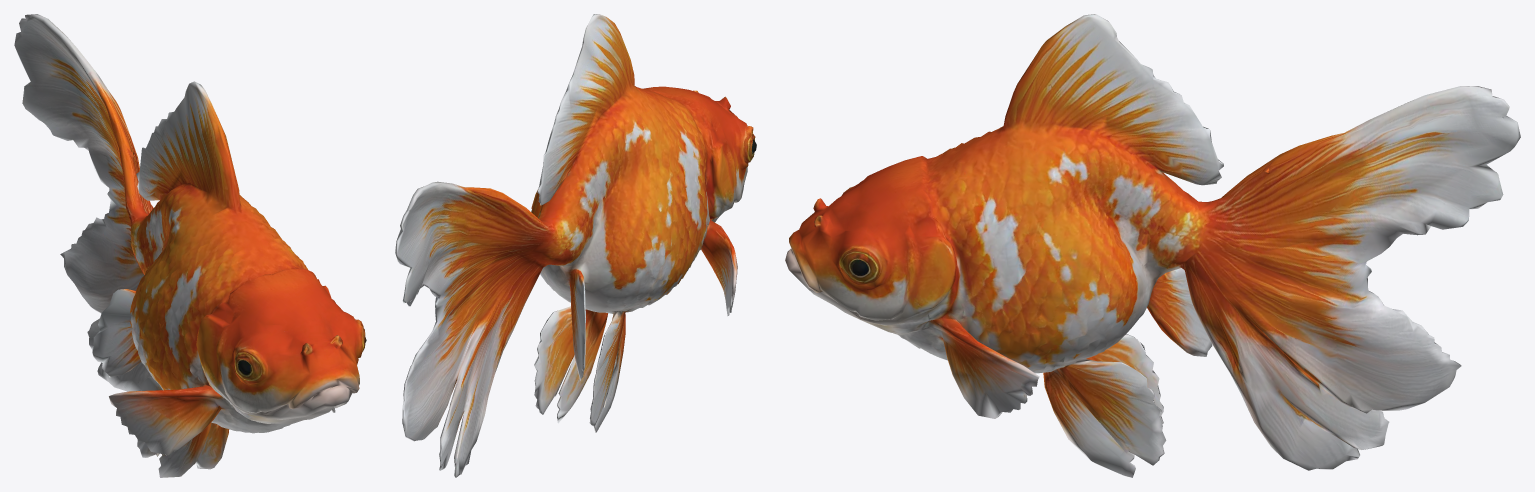
File: goldfish.glb
The picture shows the model from 3 angles, left to right: view 1: azimuth 30°, elevation 25°; view 2: azimuth 150°, elevation 25°; view 3: azimuth 270°, elevation 25°; orthographic projection. The views are drawn at different scales.
Visible parts, largest first — view 1: tripo_node_b2aeba12-9e06-41ba-bf83-601ba2d4bc5b; view 2: tripo_node_b2aeba12-9e06-41ba-bf83-601ba2d4bc5b; view 3: tripo_node_b2aeba12-9e06-41ba-bf83-601ba2d4bc5b.
Boxes of the visible parts, x1,y1,x2,y2 form: tripo_node_b2aeba12-9e06-41ba-bf83-601ba2d4bc5b: [14, 14, 366, 477]; tripo_node_b2aeba12-9e06-41ba-bf83-601ba2d4bc5b: [395, 14, 756, 477]; tripo_node_b2aeba12-9e06-41ba-bf83-601ba2d4bc5b: [785, 14, 1520, 477].
Bounding box in the file's own units: 0.4096 × 0.6804 × 1.
Materials: 1 (1 with a texture image).
